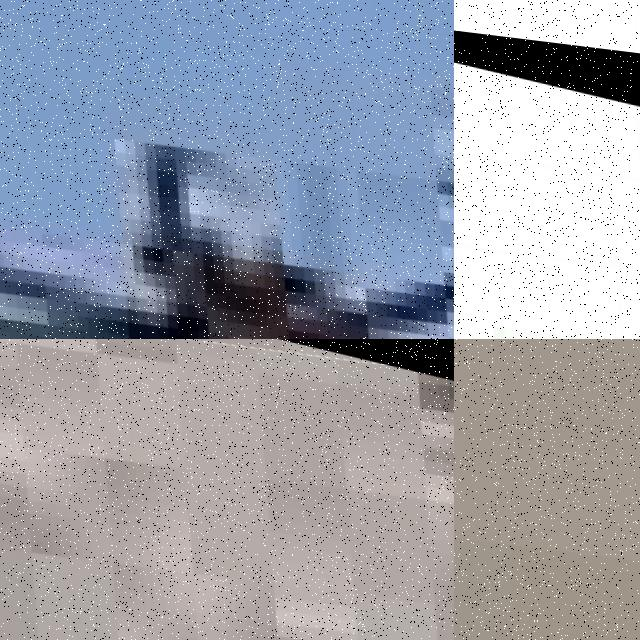0: (0, 0, 454, 339), (0, 339, 454, 640)
drone: (454, 0, 640, 339)
